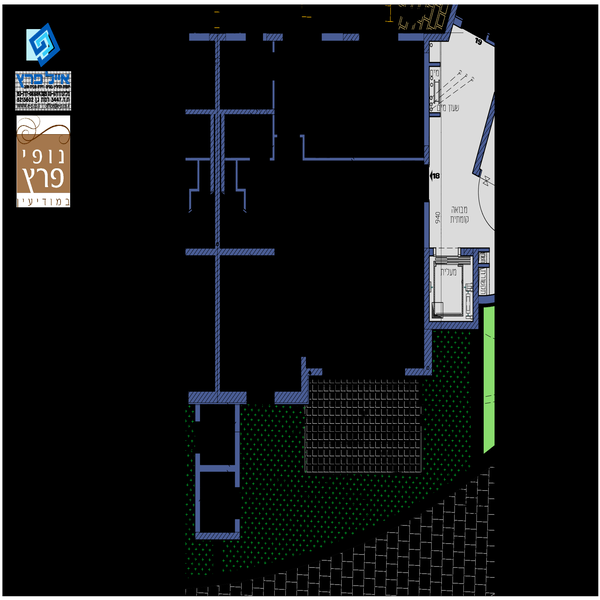room: (215, 28, 437, 237), (207, 242, 441, 405)
